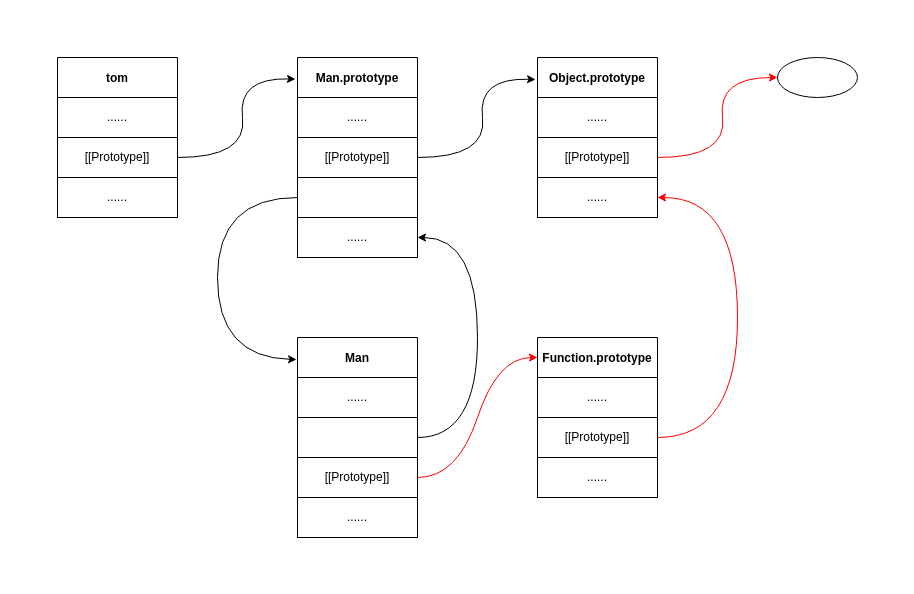
The diagram is 914 pixels wide and 594 high, and some of its shapes have lost their labels. The shapes that lost their labels are listed below. From the top down, each one's centre as x and y in pixels, then its label:
point (817, 77): null
point (357, 197): constroctor
point (357, 437): prototype
